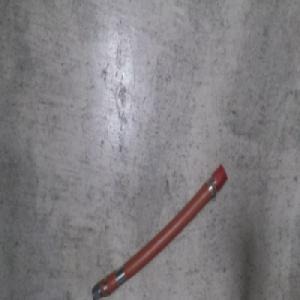Hose: (90, 159, 228, 299)
